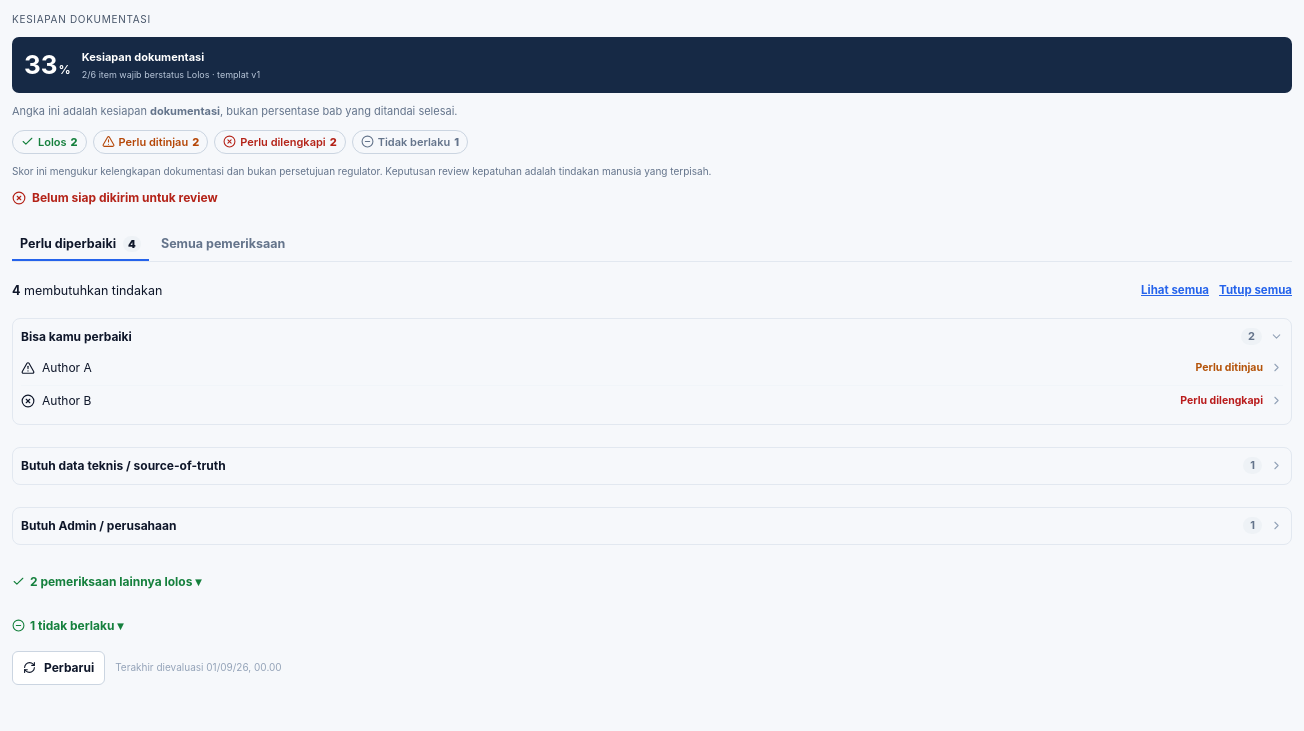
Test: ValidationPanel — compact by default › 'Lihat semua' opens every owner group + finding; 'Tutup semua' collapses them
The width and height of the screenshot is (1304, 731).
Click the button "Lihat semua" at (1175, 291), box [1141,280,1209,302]
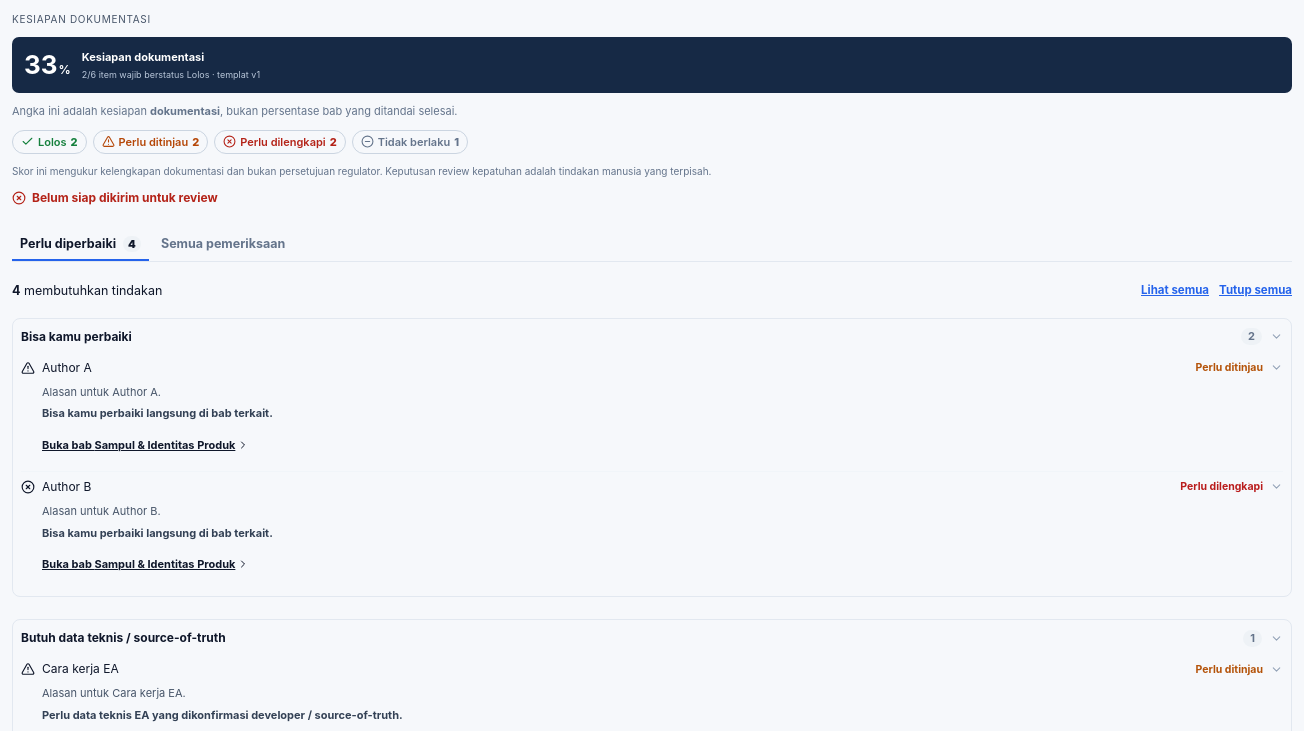
Expected: the text "Alasan untuk Cara kerja EA." is shown, [42,686,186,700]
Click the button "Tutup semua" at (1256, 291), box [1219,280,1292,302]
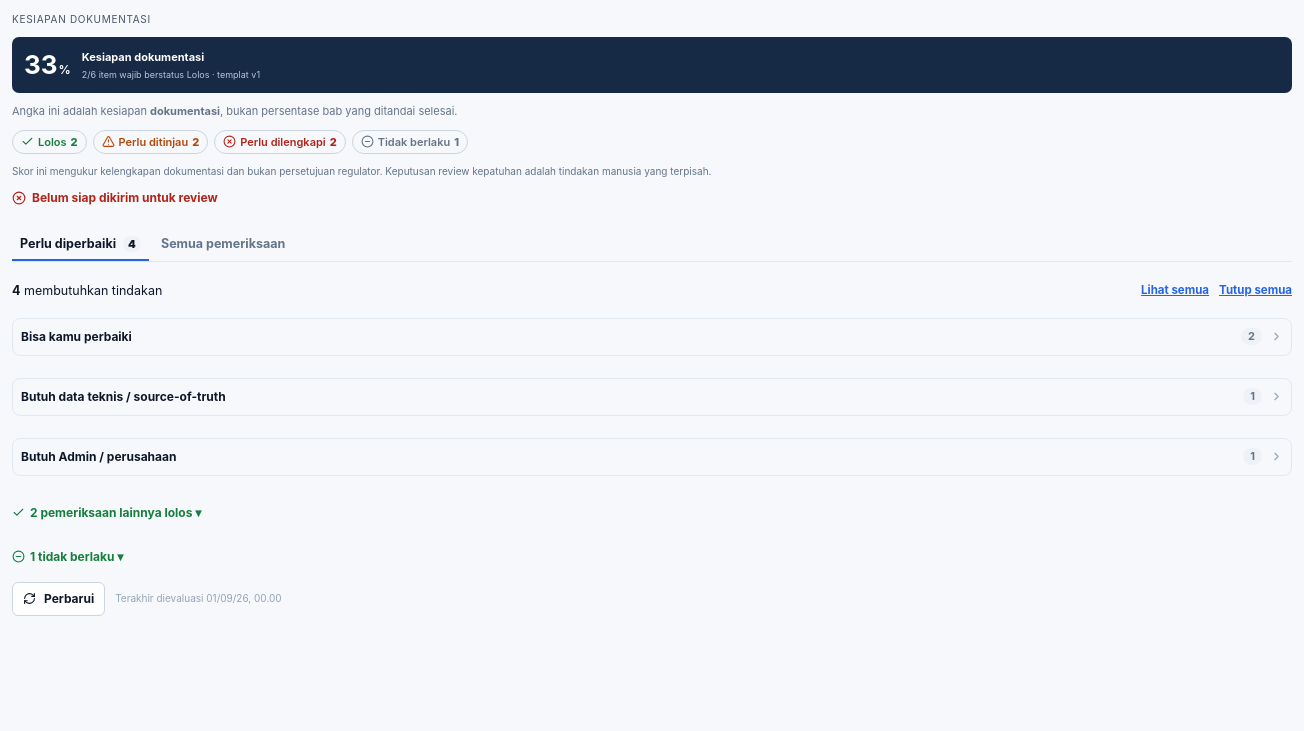
Expected: the button "Author A" is gone
